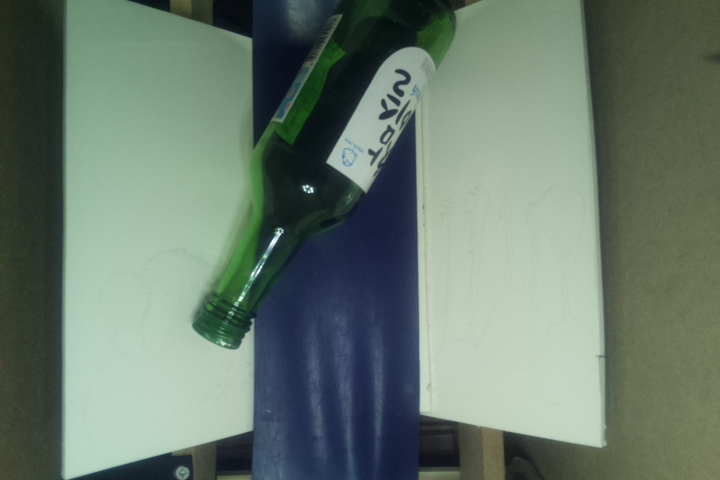soju: (195, 1, 459, 354)
